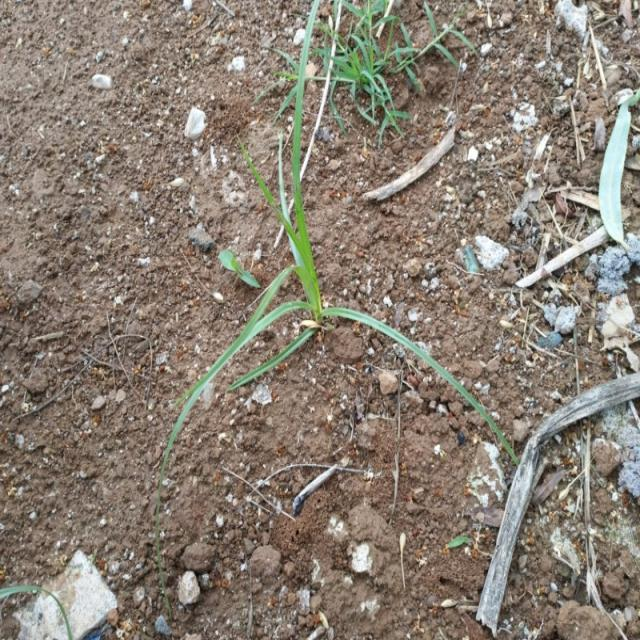sedge: (124, 88, 486, 415)
